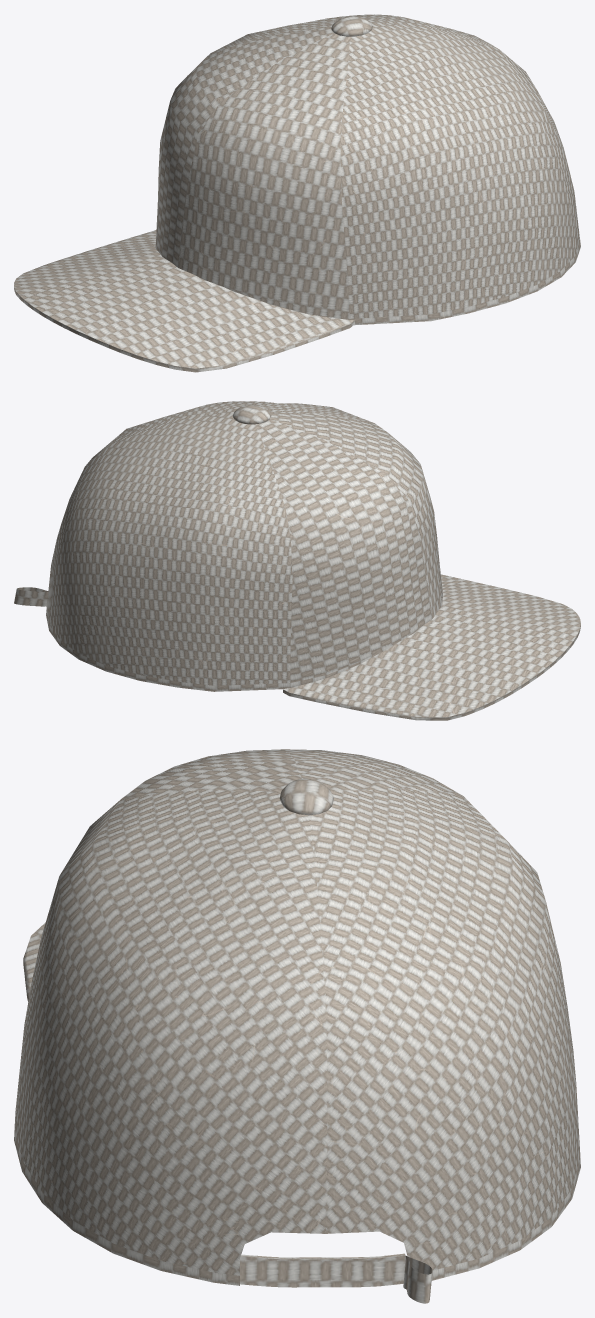
The model's file is 02_americano.glb.
The picture shows the model from 3 angles, top to bottom: view 1: azimuth 30°, elevation 25°; view 2: azimuth 150°, elevation 25°; view 3: azimuth 270°, elevation 25°; orthographic projection. The views are drawn at different scales.
Parts seen in each view (by area): view 1: corpo, frente, aba_cima; view 2: corpo, frente, aba_cima; view 3: corpo, frente, aba_cima.
Boxes of the visible parts, x1,y1,x2,y2 form: corpo: [211, 14, 580, 325]; frente: [155, 28, 350, 318]; aba_cima: [14, 230, 354, 372]; corpo: [14, 401, 373, 691]; frente: [256, 413, 442, 687]; aba_cima: [283, 574, 580, 720]; corpo: [14, 778, 580, 1303]; frente: [122, 749, 462, 798]; aba_cima: [23, 922, 45, 1001].
Bounding box in the file's own units: 0.2788 × 0.1195 × 0.1691.
4 materials, 4 textured.
